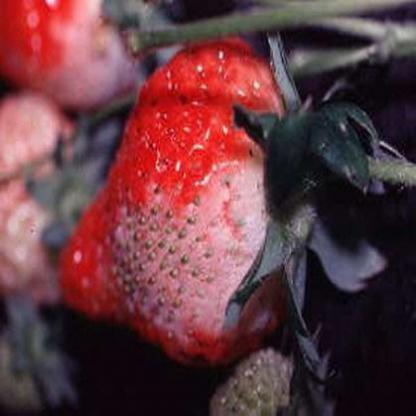Strawberry_Powdery_Mildew_Fruit: (55, 35, 310, 366), (206, 348, 300, 416)
